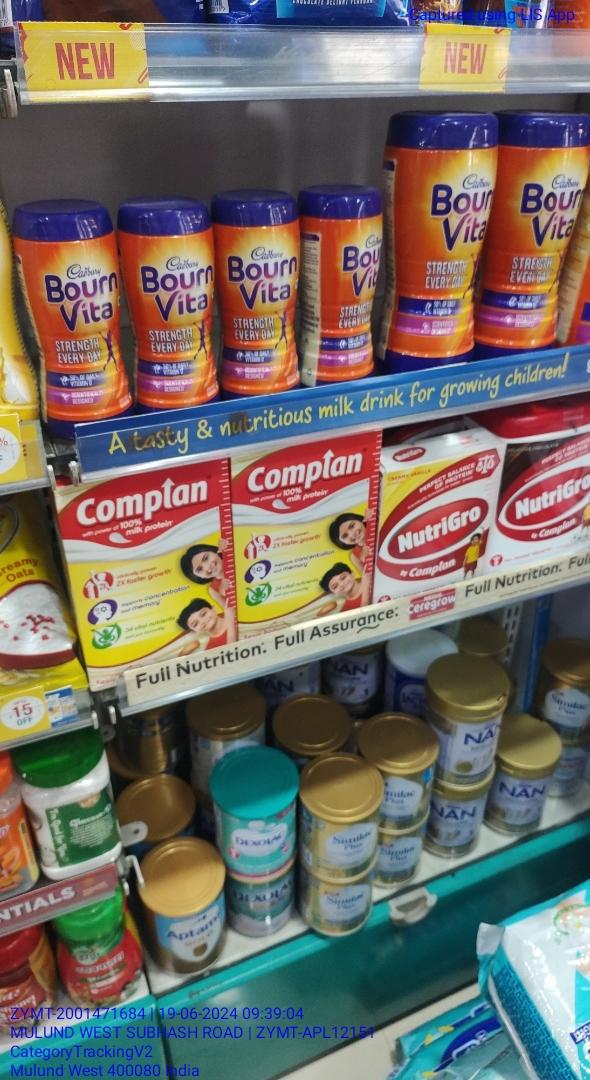BOURN_VITA_1_KG_JAR: (391, 111, 493, 365), (500, 112, 568, 347)
BOURN_VITA_500_G_JAR: (25, 211, 122, 426), (127, 196, 216, 403), (221, 194, 302, 396), (308, 187, 380, 384)
